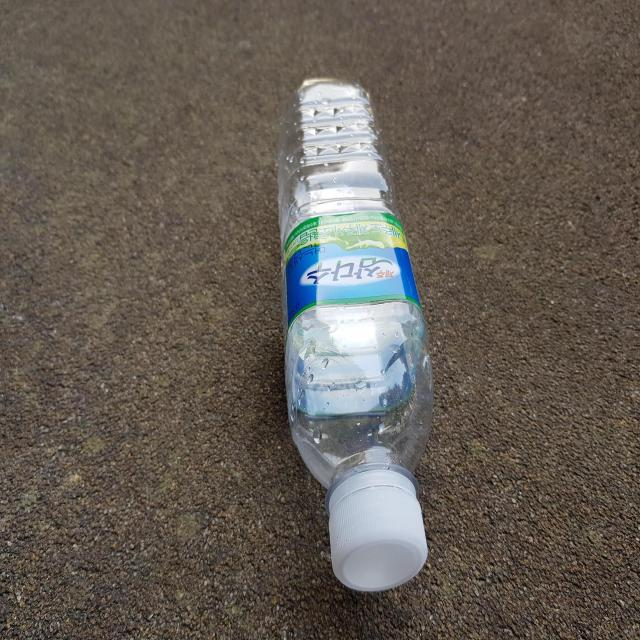plastic: (279, 79, 434, 592)
